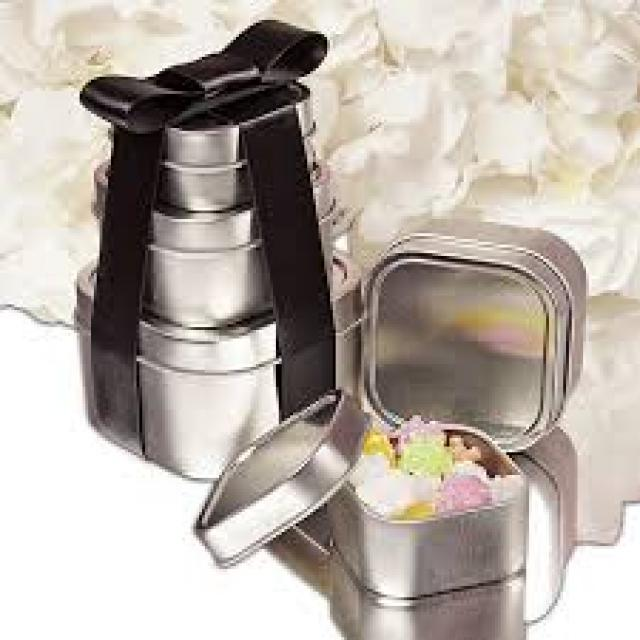organic waste: (356, 418, 509, 512)
